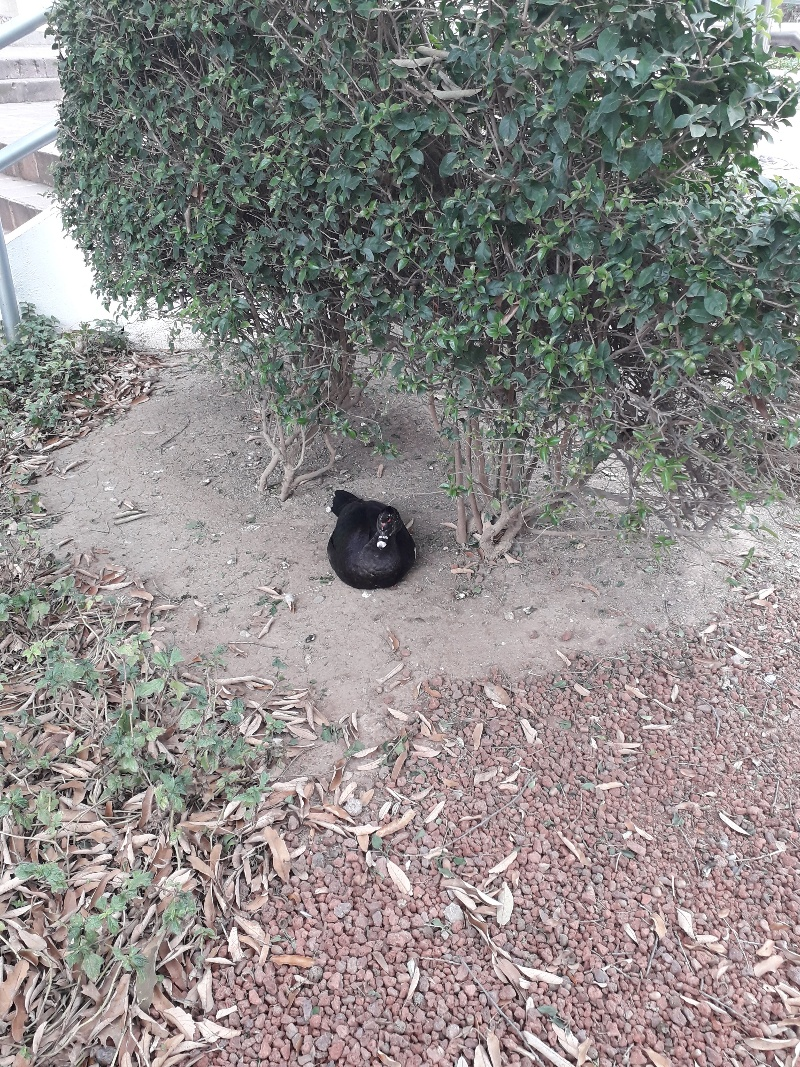pato: (319, 484, 422, 588)
